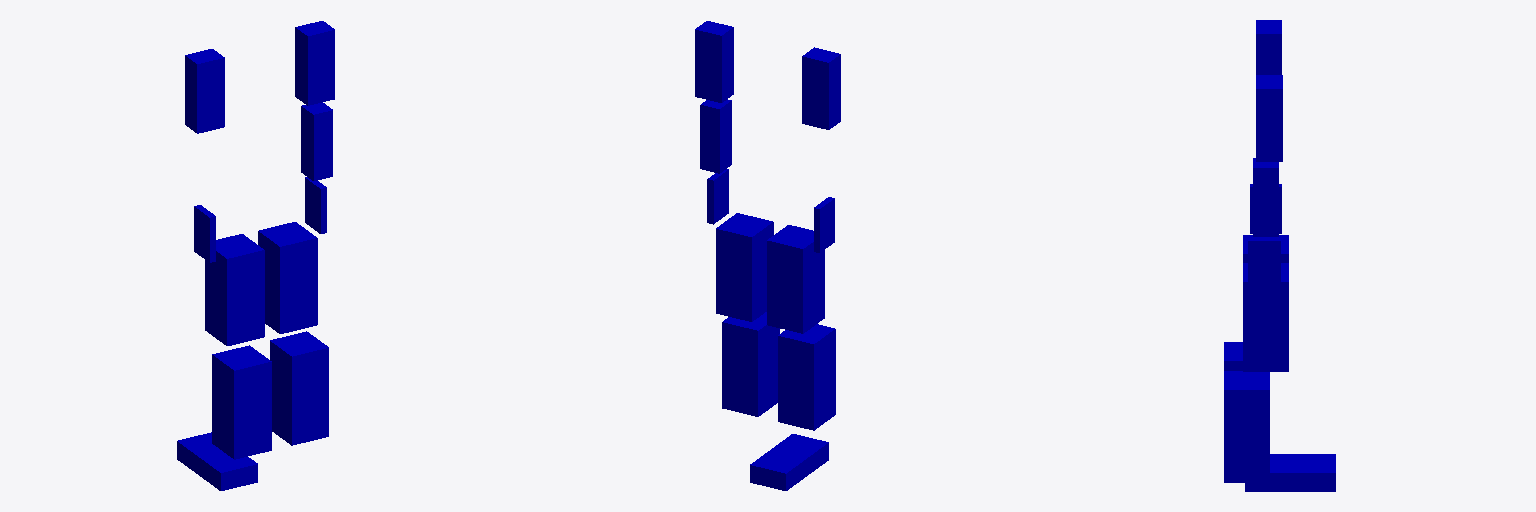
--- Render facts (derived) ---
The picture shows the robot from 3 angles, left to right: view 1: azimuth 30°, elevation 25°; view 2: azimuth 150°, elevation 25°; view 3: azimuth 270°, elevation 25°; orthographic projection.
Robot: rocketbox_male — 64 links, 63 joints (20 revolute, 39 continuous, 3 prismatic, 1 fixed); root link root_link; default pose: every joint at zero.
Links seen in each view (by area): view 1: lower_left_leg_link, lower_right_leg_link, upper_left_leg_x_link, upper_right_leg_x_link, upper_right_arm_x_link, upper_left_arm_x_link, left_foot_x_link, lower_right_arm_link, left_hand_x_link, right_hand_x_link; view 2: lower_left_leg_link, upper_left_leg_x_link, upper_right_leg_x_link, lower_right_leg_link, upper_left_arm_x_link, upper_right_arm_x_link, left_foot_x_link, lower_right_arm_link, right_hand_x_link, left_hand_x_link; view 3: lower_right_leg_link, upper_right_leg_x_link, left_foot_x_link, upper_right_arm_x_link, lower_right_arm_link, right_hand_x_link, upper_left_arm_x_link, lower_left_leg_link.
Link boxes in pixels (x1,y1,x2,y2): lower_left_leg_link: (212,345,271,459); lower_right_leg_link: (270,331,328,445); upper_left_leg_x_link: (205,234,264,345); upper_right_leg_x_link: (258,222,317,333); upper_right_arm_x_link: (295,21,334,105); upper_left_arm_x_link: (185,49,224,133); left_foot_x_link: (177,432,257,490); lower_right_arm_link: (301,102,332,180); left_hand_x_link: (194,205,215,262); right_hand_x_link: (305,177,326,233); lower_left_leg_link: (778,324,835,430); upper_left_leg_x_link: (767,225,824,333); upper_right_leg_x_link: (716,213,773,321); lower_right_leg_link: (722,312,779,416); upper_left_arm_x_link: (802,47,840,129); upper_right_arm_x_link: (695,21,733,102); left_foot_x_link: (750,434,828,490); lower_right_arm_link: (700,99,731,173); right_hand_x_link: (707,169,728,224); left_hand_x_link: (814,197,834,252); lower_right_leg_link: (1224,371,1269,482); upper_right_leg_x_link: (1243,263,1288,371); left_foot_x_link: (1245,454,1335,491); upper_right_arm_x_link: (1256,75,1282,161); lower_right_arm_link: (1253,158,1278,236); right_hand_x_link: (1248,238,1280,287); upper_left_arm_x_link: (1256,20,1281,74); lower_left_leg_link: (1224,342,1242,370).
Bounding box of the posed robot: 0.6331 × 0.4319 × 1.88 m (x, y, z).
Meshes: 14 distinct files referenced, 10 mesh visuals loaded (10 OBJ); not drawn: 4 (reference not matched to a file when rendering).

robot.urdf — rocketbox_male:
<?xml version="1.0"?>
<robot xmlns:sensor="http://playerstage.sourceforge.net/gazebo/xmlschema/#sensor"
       xmlns:controller="http://playerstage.sourceforge.net/gazebo/xmlschema/#controller"
       xmlns:interface="http://playerstage.sourceforge.net/gazebo/xmlschema/#interface"
       xmlns:xacro="http://playerstage.sourceforge.net/gazebo/xmlschema/#interface"
       name="rocketbox_male" >

  <material name="Blue">
    <color rgba="0.0 0.0 0.8 1.0"/>
  </material>
  <material name="Green">
    <color rgba="0.0 0.8 0.0 1.0"/>
  </material>
  <material name="Grey">
    <color rgba="0.7 0.7 0.7 1.0"/>
  </material>
  <material name="Grey2">
    <color rgba="0.9 0.9 0.9 1.0"/>
  </material>
  <material name="Red">
    <color rgba="0.8 0.0 0.0 1.0"/>
  </material>
  <material name="White">
    <color rgba="1.0 1.0 1.0 1.0"/>
  </material>
  <material name="Black">
    <color rgba="0.1 0.1 0.1 1.0"/>
  </material>
  <material name="LightGrey">
    <color rgba="0.6 0.6 0.6 1.0"/>
  </material>

  <link name="root_link"/>
  <link name="base_prismatic_dummy1"/>
  <link name="base_prismatic_dummy2"/>
  <link name="base_prismatic_dummy3"/>
  <link name="base_revolute_dummy1"/>
  <link name="base_revolute_dummy2"/>

  <joint name="base_prismatic_joint_x" type="prismatic">
    <axis xyz="1 0 0"/>
    <limit effort="10000" lower="-60.0" upper="60.0" velocity="0.6"/>
    <safety_controller k_position="100" k_velocity="2000000" soft_lower_limit="-59.9" soft_upper_limit="59.9"/>
    <calibration falling="0.00536"/>
    <dynamics damping="20000.0"/>
    <origin rpy="0 0 0" xyz="0 0 1.218534"/>
    <parent link="root_link"/>
    <child link="base_prismatic_dummy1"/>
  </joint>
  <joint name="base_prismatic_joint_y" type="prismatic">
    <axis xyz="0 1 0"/>
    <limit effort="10000" lower="-60.0" upper="60.0" velocity="0.6"/>
    <safety_controller k_position="100" k_velocity="2000000" soft_lower_limit="-59.9" soft_upper_limit="59.9"/>
    <calibration falling="0.00536"/>
    <dynamics damping="20000.0"/>
    <origin rpy="0 0 0" xyz="0 0 0"/>
    <parent link="base_prismatic_dummy1"/>
    <child link="base_prismatic_dummy2"/>
  </joint>
  <joint name="base_prismatic_joint_z" type="prismatic">
    <axis xyz="0 0 1"/>
    <limit effort="10000" lower="-100.0" upper="100.0" velocity="0.6"/>
    <safety_controller k_position="100" k_velocity="2000000" soft_lower_limit="-99.9" soft_upper_limit="99.9"/>
    <calibration falling="0.00536"/>
    <dynamics damping="20000.0"/>
    <origin rpy="0 0 0" xyz="0 0 0"/>
    <parent link="base_prismatic_dummy2"/>
    <child link="base_prismatic_dummy3"/>
  </joint>
  <joint name="base_revolute_joint_x" type="continuous">
    <axis xyz="1 0 0"/>
    <origin rpy="0 0 0" xyz="0 0 0"/>
    <parent link="base_prismatic_dummy3"/>
    <child link="base_revolute_dummy1"/>
  </joint>
  <joint name="base_revolute_joint_y" type="continuous">
    <axis xyz="0 1 0"/>
    <origin rpy="0 0 0" xyz="0 0 0"/>
    <parent link="base_revolute_dummy1"/>
    <child link="base_revolute_dummy2"/>
  </joint>
  <joint name="base_revolute_joint_z" type="continuous">
    <axis xyz="0 0 1"/>
    <origin rpy="0 0 0" xyz="0 0 0"/>
    <parent link="base_revolute_dummy2"/>
    <child link="pelvis_link"/>
  </joint>  
  <link name="pelvis_link">
    <inertial>
      <mass value="24.9873014159"/>
      <inertia ixx="0.219399825" ixy="0.000000009184695" ixz="0.000000062599005" iyy="0.21939959375" iyz="-0.000000006475555" izz="0.22992248625"/>
      <origin xyz="0 -0.00000001 0.0983925"/>
    </inertial>
  </link>	  
  <joint name="torso_z_joint" type="continuous">
    <axis xyz="0 0 1"/>
    <limit effort="15" lower="-0.7" upper="0.7" velocity="5"/>
    <origin rpy="0 0 0" xyz="0 0.010284 0.327936"/>
    <parent link="pelvis_link"/>
    <child link="torso_z_link"/>
  </joint>
  <joint name="torso_y_joint" type="continuous">
    <axis xyz="0 1 0"/>
    <limit effort="15" lower="-0.3" upper="0.3" velocity="5"/>
    <origin rpy="0 0 0" xyz="0 0 0"/>
    <parent link="torso_z_link"/>
    <child link="torso_y_link"/>
  </joint>
  <joint name="torso_x_joint" type="continuous">
    <axis xyz="1 0 0"/>
    <limit effort="15" lower="-1.0" upper="0" velocity="5"/>
    <origin rpy="0 0 0" xyz="0 0 0"/>
    <parent link="torso_y_link"/>
    <child link="torso_x_link"/>
  </joint>  

  <link name="torso_z_link"/>
  <link name="torso_y_link"/>
  <link name="torso_x_link">
    <visual>
      <origin rpy="0 0 0" xyz="0 0 0"/>
      <geometry>
        <mesh filename="package://human_description/meshes/rocket_box/torso.obj"/>
      </geometry>
      <material name="Blue"/>
    </visual>
    <collision>
      <origin rpy="0 0 0" xyz="0 0 0"/>
      <geometry>
        <mesh filename="package://human_description/meshes/rocket_box/torso.obj"/>
      </geometry>
    </collision>
    <inertial>
      <mass value="54.1902903318"/>
      <inertia ixx="1.0895931125" ixy="0.000001152997515" ixz="-0.000000460619845" iyy="1.4490895525" iyz="0.000000968452985" izz="0.679463005"/>
      <origin xyz="0 -0.00000025 0.22608234"/>
    </inertial>
  </link>  
  
  <joint name="head_z_joint" type="continuous">
    <axis xyz="0 0 1"/>
    <limit effort="15" lower="-1.2" upper="1.2" velocity="5"/>
    <origin rpy="0 0 0" xyz="0 -0.020052 .502320"/>
    <parent link="torso_x_link"/>
    <child link="head_z_link"/>
  </joint>
  <joint name="head_y_joint" type="continuous">
    <axis xyz="0 1 0"/>
    <limit effort="15" lower="-0.8" upper="0.8" velocity="5"/>
    <origin rpy="0 0 0" xyz="0 0 0"/>
    <parent link="head_z_link"/>
    <child link="head_y_link"/>
  </joint>
  <joint name="head_x_joint" type="continuous">
    <axis xyz="1 0 0"/>
    <limit effort="15" lower="-1.57" upper="0.3" velocity="5"/>
    <origin rpy="0 0 0" xyz="0 0 0"/>
    <parent link="head_y_link"/>
    <child link="head_x_link"/>
  </joint>

  <link name="head_z_link"/>
  <link name="head_y_link"/>
  <link name="head_x_link">
    <visual>
      <origin rpy="0 0 0" xyz="0 0 0"/>
      <geometry>
        <mesh filename="package://human_description/meshes/rocket_box/head.obj"/>
      </geometry>
      <material name="Blue"/>
    </visual>
    <collision>
      <origin rpy="0 0 0" xyz="0 0 0"/>
      <geometry>
        <mesh filename="package://human_description/meshes/rocket_box/head.obj"/>
      </geometry>
    </collision>
    <inertial>
      <mass value="16.0164526852"/>
      <inertia ixx="0.194835825625" ixy="-0.00000000913641" ixz="0.00000000531468" iyy="0.194835733125" iyz="-0.000000020301345" izz="0.06426014890625"/>
      <origin xyz="0.0 0.00000001 0.18566523"/>
    </inertial>
  </link>
  
  <joint name="head_endeffector_joint" type="fixed">
    <axis xyz="0 0 1"/>
    <limit effort="15" lower="-0.001" upper="0.001" velocity="5"/>
    <origin rpy="0 0 0" xyz="0 -0.03768 0.246336"/>
    <parent link="head_x_link"/>
    <child link="head_endeffector_link"/>
  </joint>

  <link name="head_endeffector_link"/>

  <joint name="upper_left_leg_z_joint" type="continuous">
    <axis xyz="0 0 1"/>
    <limit effort="15" lower="-1.57" upper="1" velocity="5"/>
    <origin rpy="0 0 0" xyz="-0.106044 -0.001956 -0.144312"/>
    <parent link="pelvis_link"/>
    <child link="upper_left_leg_z_link"/>
  </joint>
  <joint name="upper_left_leg_y_joint" type="continuous">
    <axis xyz="0 1 0"/>
    <limit effort="15" lower="-1.57" upper="0.7" velocity="5"/>
    <origin rpy="0 0 0" xyz="0 0 0"/>
    <parent link="upper_left_leg_z_link"/>
    <child link="upper_left_leg_y_link"/>
  </joint>
  <joint name="upper_left_leg_x_joint" type="continuous">
    <axis xyz="1 0 0"/>
    <limit effort="15" lower="-1.2" upper="1.57" velocity="5"/>
    <origin rpy="0 0 0" xyz="0 0 0"/>
    <parent link="upper_left_leg_y_link"/>
    <child link="upper_left_leg_x_link"/>
  </joint>

  <link name="upper_left_leg_z_link"/>
  <link name="upper_left_leg_y_link"/>
  <link name="upper_left_leg_x_link">
    <visual>
      <origin rpy="0 0 0" xyz="0 0 0"/>
      <geometry>
        <mesh filename="package://human_description/meshes/rocket_box/l_lupperleg.obj"/>
      </geometry>
      <material name="Blue"/>
    </visual>
    <collision>
      <origin rpy="0 0 0" xyz="0 0 0"/>
      <geometry>
        <mesh filename="package://human_description/meshes/rocket_box/l_lupperleg.obj"/>
      </geometry>
    </collision>
    <inertial>
      <mass value="11.28066677275"/>
      <inertia ixx="0.258606759375" ixy="0.000002463301455" ixz="0.00032211891975" iyy="0.258311314375" iyz="-0.000065609605275" izz="0.021073428046875"/>
      <origin xyz="-0.00364974 -0.00003172 -0.19576731"/>
    </inertial>
  </link>

  <joint name="lower_left_leg_joint" type="continuous">
    <axis xyz="1 0 0"/>
    <limit effort="15" lower="-2.4" upper="0" velocity="5"/>
    <origin rpy="0 0 0" xyz="-0.025332 -0.01956 -0.477768"/>
    <parent link="upper_left_leg_x_link"/>
    <child link="lower_left_leg_link"/>
  </joint>

  <link name="lower_left_leg_link">
    <visual>
      <origin rpy="0 0 0" xyz="0 0 0"/>
      <geometry>
        <mesh filename="package://human_description/meshes/rocket_box/l_lowerleg.obj"/>
      </geometry>
      <material name="Blue"/>
    </visual>
    <collision>
      <origin rpy="0 0 0" xyz="0 0 0"/>
      <geometry>
        <mesh filename="package://human_description/meshes/rocket_box/l_lowerleg.obj"/>
      </geometry>
    </collision>
    <inertial>
      <mass value="8.394054321"/>
      <inertia ixx="0.1879741409375" ixy="0.000000001719205" ixz="-0.00000000509231" iyy="0.1879741525" iyz="-0.00000001780773" izz="0.01166299402353"/>
      <origin xyz="0.0 -0.00029422 -0.20195734"/>
    </inertial>
  </link>

  <joint name="left_foot_z_joint" type="continuous">
    <axis xyz="0 0 1"/>
    <limit effort="15" lower="-0.01" upper="0" velocity="5"/>
    <origin rpy="0 0 0" xyz="-0.008988 0.036996 -0.474504"/>
    <parent link="lower_left_leg_link"/>
    <child link="left_foot_z_link"/>
  </joint>
  <joint name="left_foot_y_joint" type="continuous">
    <axis xyz="0 1 0"/>
    <limit effort="15" lower="-0.5" upper="0.5" velocity="5"/>
    <origin rpy="0 0 0" xyz="0 0 0"/>
    <parent link="left_foot_z_link"/>
    <child link="left_foot_y_link"/>
  </joint>
  <joint name="left_foot_x_joint" type="continuous">
    <axis xyz="1 0 0"/>
    <limit effort="15" lower="-0.8" upper="0.6" velocity="5"/>
    <origin rpy="0 0 0" xyz="0 0 0"/>
    <parent link="left_foot_y_link"/>
    <child link="left_foot_x_link"/>
  </joint>

  <link name="left_foot_z_link"/>
  <link name="left_foot_y_link"/>
  <link name="left_foot_x_link">
    <visual>
      <origin rpy="0 0 0" xyz="0 0 0"/>
      <geometry>
        <mesh filename="package://human_description/meshes/rocket_box/l_foot.obj"/>
      </geometry>
      <material name="Blue"/>
    </visual>
    <collision>
      <origin rpy="0 0 0" xyz="0 0 0"/>
      <geometry>
        <mesh filename="package://human_description/meshes/rocket_box/l_foot.obj"/>
      </geometry>
    </collision>
    <inertial>
      <mass value="2.24629475115"/>
      <inertia ixx="0.00997119431636" ixy="-0.00032381616821" ixz="0.00003556416949" iyy="0.00325251065432" iyz="0.00137797584221" izz="0.01040399675772"/>
      <origin xyz="-0.00160579 0.04884521 -0.0783361"/>
    </inertial>
  </link>
	
	  
  <joint name="left_foot_endeffector_joint" type="revolute">
    <axis xyz="0 0 1"/>
    <limit effort="15" lower="0.0" upper="0.0" velocity="5"/>
    <origin rpy="0 0 0" xyz="0 0 -0.120162"/>
    <parent link="left_foot_x_link"/>
    <child link="left_foot_endeffector_link"/>
  </joint>

  <link name="left_foot_endeffector_link"/>  

  <joint name="upper_right_leg_z_joint" type="continuous">
    <axis xyz="0 0 1"/>
    <limit effort="15" lower="-1" upper="1.57" velocity="5"/>
    <origin rpy="0 0 0" xyz="0.106044 -0.001956 -0.144300"/> 
    <parent link="pelvis_link"/>
    <child link="upper_right_leg_z_link"/>
  </joint>
  <joint name="upper_right_leg_y_joint" type="continuous">
    <axis xyz="0 1 0"/>
    <limit effort="15" lower="-0.7" upper="1.57" velocity="5"/>
    <origin rpy="0 0 0" xyz="0 0 0"/>
    <parent link="upper_right_leg_z_link"/>
    <child link="upper_right_leg_y_link"/>
  </joint>
  <joint name="upper_right_leg_x_joint" type="continuous">
    <axis xyz="1 0 0"/>
    <limit effort="15" lower="-1.2" upper="1.57" velocity="5"/>
    <origin rpy="0 0 0" xyz="0 0 0"/>
    <parent link="upper_right_leg_y_link"/>
    <child link="upper_right_leg_x_link"/>
  </joint>

  <link name="upper_right_leg_z_link"/>
  <link name="upper_right_leg_y_link"/>
  <link name="upper_right_leg_x_link">
    <visual>
      <origin rpy="0 0 0" xyz="0 0 0"/>
      <geometry>
        <mesh filename="package://human_description/meshes/rocket_box/r_upperleg.obj"/>
      </geometry>
      <material name="Blue"/>
    </visual>
    <collision>
      <origin rpy="0 0 0" xyz="0 0 0"/>
      <geometry>
        <mesh filename="package://human_description/meshes/rocket_box/r_upperleg.obj"/>
      </geometry>
    </collision>
    <inertial>
      <mass value="11.28066677275"/>
      <inertia ixx="0.258606759375" ixy="-0.000002463410605" ixz="-0.000322118806715" iyy="0.258311360625" iyz="-0.000065609865015" izz="0.021073428046875"/>
      <origin xyz="0.00364974 -0.00003172 -0.19576731"/>
    </inertial>
  </link>

  <joint name="lower_right_leg_joint" type="continuous">
    <axis xyz="1 0 0"/>
    <limit effort="15" lower="-2.4" upper="0" velocity="5"/>
    <origin rpy="0 0 0" xyz="0.025332 -0.01956 -0.47778"/>
    <parent link="upper_right_leg_x_link"/>
    <child link="lower_right_leg_link"/>
  </joint>

  <link name="lower_right_leg_link">
    <visual>
      <origin rpy="0 0 0" xyz="0 0 0"/>
      <geometry>
        <mesh filename="package://human_description/meshes/rocket_box/r_lowerleg.obj"/>
      </geometry>
      <material name="Blue"/>
    </visual>
    <collision>
      <origin rpy="0 0 0" xyz="0 0 0"/>
      <geometry>
        <mesh filename="package://human_description/meshes/rocket_box/r_lowerleg.obj"/>
      </geometry>
    </collision>
    <inertial>
      <mass value="8.394054321"/>
      <inertia ixx="0.1879741409375" ixy="0.000000001719205" ixz="-0.00000000509231" iyy="0.1879741525" iyz="-0.00000001780773" izz="0.01166299402353"/>
      <origin xyz="0.0 -0.00029422 -0.20195734"/>
    </inertial>
  </link>

  <joint name="right_foot_z_joint" type="continuous">
    <axis xyz="0 0 1"/>
    <limit effort="15" lower="0" upper="0.001" velocity="5"/>
    <origin rpy="0 0 0" xyz="0.008988 0.036996 -0.474504"/>
    <parent link="lower_right_leg_link"/>
    <child link="right_foot_z_link"/>
  </joint>
  <joint name="right_foot_y_joint" type="continuous">
    <axis xyz="0 1 0"/>
    <limit effort="15" lower="-0.5" upper="0.5" velocity="5"/>
    <origin rpy="0 0 0" xyz="0 0 0"/>
    <parent link="right_foot_z_link"/>
    <child link="right_foot_y_link"/>
  </joint>
  <joint name="right_foot_x_joint" type="continuous">
    <axis xyz="1 0 0"/>
    <limit effort="15" lower="-0.8" upper="0.6" velocity="5"/>
    <origin rpy="0 0 0" xyz="0 0 0"/>
    <parent link="right_foot_y_link"/>
    <child link="right_foot_x_link"/>
  </joint>

  <link name="right_foot_z_link"/>
  <link name="right_foot_y_link"/>
  <link name="right_foot_x_link">
    <visual>
      <origin rpy="0 0 0" xyz="0 0 0"/>
      <geometry>
        <mesh filename="package://human_description/meshes/rocket_box/r_foot.obj"/>
      </geometry>
      <material name="Blue"/>
    </visual>
    <collision>
      <origin rpy="0 0 0" xyz="0 0 0"/>
      <geometry>
        <mesh filename="package://human_description/meshes/rocket_box/r_foot.obj"/>
      </geometry>
    </collision>
    <inertial>
      <mass value="2.24629475115"/>
      <inertia ixx="0.00997119287114" ixy="0.00032381614564" ixz="-0.0000355639042" iyy="0.003252511015625" iyz="0.00137797638426" izz="0.01040399675772"/>
      <origin xyz="0.00160579 0.04884521 -0.0783361"/>
    </inertial>
  </link>
  	  
  <joint name="right_foot_endeffector_joint" type="revolute">
    <axis xyz="0 0 1"/>
    <limit effort="15" lower="0.0" upper="0.0" velocity="5"/>
    <origin rpy="0 0 0" xyz="0 0 -0.120162"/>
    <parent link="right_foot_x_link"/>
    <child link="right_foot_endeffector_link"/>
  </joint>

  <link name="right_foot_endeffector_link"/>

  <joint name="upper_left_specula_joint" type="continuous">
    <axis xyz="0 0 1"/>
    <limit effort="15" lower="-0" upper="0" velocity="5"/>
    <origin rpy="0 0 0" xyz="-0.0873828 0.0381 -0.153156"/>
    <parent link="head_x_link"/>
    <child link="upper_left_arm_specula_link"/>
  </joint>
  
  <link name="upper_left_arm_specula_link"/>
  
  <joint name="upper_left_arm_z_joint" type="continuous">
    <axis xyz="0 0 1"/>
    <limit effort="15" lower="-0.5" upper="0.5" velocity="5"/>
    <origin rpy="0 0 0" xyz="-0.169296 0 0"/>
    <parent link="upper_left_arm_specula_link"/>
    <child link="upper_left_arm_z_link"/>
  </joint>
  <joint name="upper_left_arm_y_joint" type="continuous">
    <axis xyz="0 1 0"/>
    <limit effort="15" lower="-3.14" upper="2.0" velocity="5"/>
    <origin rpy="0 0 0" xyz="0 0 0"/>
    <parent link="upper_left_arm_z_link"/>
    <child link="upper_left_arm_y_link"/>
  </joint>
  <joint name="upper_left_arm_x_joint" type="continuous">
    <axis xyz="1 0 0"/>
    <limit effort="15" lower="-1.0" upper="3.14" velocity="5"/>
    <origin rpy="0 0 0" xyz="0 0 0"/>
    <parent link="upper_left_arm_y_link"/>
    <child link="upper_left_arm_x_link"/>
  </joint>

  <link name="upper_left_arm_z_link"/>
  <link name="upper_left_arm_y_link"/>
  <link name="upper_left_arm_x_link">
    <visual>
      <origin rpy="0 0 0" xyz="0 0 0"/>
      <geometry>
        <mesh filename="package://human_description/meshes/rocket_box/l_upperarm.obj"/>
      </geometry>
      <material name="Blue"/>
    </visual>
    <collision>
      <origin rpy="0 0 0" xyz="0 0 0"/>
      <geometry>
        <mesh filename="package://human_description/meshes/rocket_box/l_upperarm.obj"/>
      </geometry>
    </collision>
    <inertial>
      <mass value="5.0428574576"/>
      <inertia ixx="0.05868383265625" ixy="-0.0000000925777" ixz="-0.00160419461921" iyy="0.05870381265625" iyz="-0.000002301658445" izz="0.006071859706985"/>
      <origin xyz="-0.00338773 -0.00000063 -0.17172602"/>
    </inertial>
  </link>

  <joint name="lower_left_arm_joint" type="continuous">
    <axis xyz="1 0 0"/>
    <limit effort="15" lower="0" upper="3.14" velocity="5"/>
    <origin rpy="0 0 0" xyz="-0.001464 -0.00114 -0.34296"/>
    <parent link="upper_left_arm_x_link"/>
    <child link="lower_left_arm_link"/>
  </joint>

  <link name="lower_left_arm_link">
    <visual>
      <origin rpy="0 0 0" xyz="0 0 0"/>
      <geometry>
        <mesh filename="package://human_description/meshes/rocket_box/l_forearm.obj"/>
      </geometry>
      <material name="Blue"/>
    </visual>
    <collision>
      <origin rpy="0 0 0" xyz="0 0 0"/>
      <geometry>
        <mesh filename="package://human_description/meshes/rocket_box/l_forearm.obj"/>
      </geometry>
    </collision>
    <inertial>
      <mass value="4.1174112191"/>
      <inertia ixx="0.046870596953125" ixy="-0.000000000013135" ixz="0.00000000291116" iyy="0.0468705940625" iyz="-0.00000000721685" izz="0.00412573450193"/>
      <origin xyz="0.0 0.00000002 -0.14231966"/>
    </inertial>
  </link>

  <joint name="left_hand_z_joint" type="continuous">
    <axis xyz="0 0 1"/>
    <limit effort="15" lower="-1.0" upper="1.0" velocity="5"/>
    <origin rpy="0 0 0" xyz="-0.001728 -0.004992 -0.325056"/>
    <parent link="lower_left_arm_link"/>
    <child link="left_hand_z_link"/>
  </joint>
  <joint name="left_hand_y_joint" type="continuous">
    <axis xyz="0 1 0"/>
    <limit effort="15" lower="-1.3" upper="1.5" velocity="5"/>
    <origin rpy="0 0 0" xyz="0 0 0"/>
    <parent link="left_hand_z_link"/>
    <child link="left_hand_y_link"/>
  </joint>
  <joint name="left_hand_x_joint" type="continuous">
    <axis xyz="1 0 0"/>
    <limit effort="15" lower="-0.5" upper="1.4" velocity="5"/>
    <origin rpy="0 0 0" xyz="0 0 0"/>
    <parent link="left_hand_y_link"/>
    <child link="left_hand_x_link"/>
  </joint>

  <link name="left_hand_z_link"/>
  <link name="left_hand_y_link"/>
  <link name="left_hand_x_link">
    <visual>
      <origin rpy="0 0 0" xyz="0 0 0"/>
      <geometry>
        <mesh filename="package://human_description/meshes/rocket_box/l_hand.obj"/>
      </geometry>
      <material name="Blue"/>
    </visual>
    <collision>
      <origin rpy="0 0 0" xyz="0 0 0"/>
      <geometry>
        <mesh filename="package://human_description/meshes/rocket_box/l_hand.obj"/>
      </geometry>
    </collision>
    <inertial>
      <mass value="0.5669499677"/>
      <inertia ixx="0.00201160057137" ixy="-0.000016142435665" ixz="-0.00000510135428" iyy="0.00161538206057" iyz="0.00004737239241" izz="0.00044905660648"/>
      <origin xyz="-0.00417106 0.0042704 -0.05959476"/>
    </inertial>
  </link>

  <joint name="left_hand_endeffector_joint" type="revolute">
    <axis xyz="0 0 1"/>
    <limit effort="15" lower="-0.001" upper="0.001" velocity="5"/>
    <origin rpy="-1.570796 0 1.570796" xyz="0.01757 -0.00204 -0.08"/>
    <parent link="left_hand_x_link"/>
    <child link="left_hand_endeffector_link"/>
  </joint>

  <link name="left_hand_endeffector_link"/>
  
  <joint name="upper_right_specula_joint" type="continuous">
    <axis xyz="1 0 0"/>
    <limit effort="15" lower="-0" upper="0" velocity="5"/>
    <origin rpy="0 0 0" xyz="0.0873852 0.0381 -0.153312"/>
    <parent link="head_x_link"/>
    <child link="upper_right_arm_specula_link"/>
  </joint>
    
  <link name="upper_right_arm_specula_link"/>
  
  <joint name="upper_right_arm_z_joint" type="continuous">
    <axis xyz="0 0 1"/>
    <limit effort="15" lower="-0.5" upper="0.5" velocity="5"/>
    <origin rpy="0 0 0" xyz="0.16926 0.003768 -0.0003"/>
    <parent link="upper_right_arm_specula_link"/>
    <child link="upper_right_arm_z_link"/>
  </joint>
  <joint name="upper_right_arm_y_joint" type="continuous">
    <axis xyz="0 1 0"/>
    <limit effort="15" lower="-2.0" upper="3.14" velocity="5"/>
    <origin rpy="0 0 0" xyz="0 0 0"/>
    <parent link="upper_right_arm_z_link"/>
    <child link="upper_right_arm_y_link"/>
  </joint>
  <joint name="upper_right_arm_x_joint" type="continuous">
    <axis xyz="1 0 0"/>
    <limit effort="15" lower="-1.0" upper="3.14" velocity="5"/>
    <origin rpy="0 0 0" xyz="0 0 0"/>
    <parent link="upper_right_arm_y_link"/>
    <child link="upper_right_arm_x_link"/>
  </joint>

  <link name="upper_right_arm_z_link"/>
  <link name="upper_right_arm_y_link"/>
  <link name="upper_right_arm_x_link">
    <visual>
      <origin rpy="0 0 0" xyz="0 0 0"/>
      <geometry>
        <mesh filename="package://human_description/meshes/rocket_box/r_upperarm.obj"/>
      </geometry>
      <material name="Blue"/>
    </visual>
    <collision>
      <origin rpy="0 0 0" xyz="0 0 0"/>
      <geometry>
        <mesh filename="package://human_description/meshes/rocket_box/r_upperarm.obj"/>
      </geometry>
    </collision>
    <inertial>
      <mass value="5.0428574576"/>
      <inertia ixx="0.05868383265625" ixy="0.00000009260175" ixz="0.00160419479977" iyy="0.05870381265625" iyz="-0.000002301500825" izz="0.006071859706985"/>
      <origin xyz="0.00338773 -0.00000063 -0.17172602"/>
    </inertial>
  </link>

  <joint name="lower_right_arm_joint" type="continuous">
    <axis xyz="1 0 0"/>
    <limit effort="15" lower="0" upper="3.14" velocity="5"/>
    <origin rpy="0 0 0" xyz="-0.005592 -0.007404 -0.342828"/>
    <parent link="upper_right_arm_x_link"/>
    <child link="lower_right_arm_link"/>
  </joint>

  <link name="lower_right_arm_link">
    <visual>
      <origin rpy="0 0 0" xyz="0 0 0"/>
      <geometry>
        <mesh filename="package://human_description/meshes/rocket_box/r_forearm.obj"/>
      </geometry>
      <material name="Blue"/>
    </visual>
    <collision>
      <origin rpy="0 0 0" xyz="0 0 0"/>
      <geometry>
        <mesh filename="package://human_description/meshes/rocket_box/r_forearm.obj"/>
      </geometry>
    </collision>
    <inertial>
      <mass value="4.1174112191"/>
      <inertia ixx="0.046870596953125" ixy="-0.000000000013135" ixz="0.00000000291116" iyy="0.0468705940625" iyz="-0.00000000721685" izz="0.00412573450193"/>
      <origin xyz="0.0 0.00000002 -0.14231966"/>
    </inertial>
  </link>

  <joint name="right_hand_z_joint" type="continuous">
    <axis xyz="0 0 1"/>
    <limit effort="15" lower="-1.0" upper="1.0" velocity="5"/>
    <origin rpy="0 0 0" xyz="-0.004728 -0.003084 -0.325056"/>
    <parent link="lower_right_arm_link"/>
    <child link="right_hand_z_link"/>
  </joint>
  <joint name="right_hand_y_joint" type="continuous">
    <axis xyz="0 1 0"/>
    <limit effort="15" lower="-1.5" upper="1.3" velocity="5"/>
    <origin rpy="0 0 0" xyz="0 0 0"/>
    <parent link="right_hand_z_link"/>
    <child link="right_hand_y_link"/>
  </joint>
  <joint name="right_hand_x_joint" type="continuous">
    <axis xyz="1 0 0"/>
    <limit effort="15" lower="-0.5" upper="1.4" velocity="5"/>
    <origin rpy="0 0 0" xyz="0 0 0"/>
    <parent link="right_hand_y_link"/>
    <child link="right_hand_x_link"/>
  </joint>

  <link name="right_hand_z_link"/>
  <link name="right_hand_y_link"/>
  <link name="right_hand_x_link">
    <visual>
      <origin rpy="0 0 0" xyz="0 0 0"/>
      <geometry>
        <mesh filename="package://human_description/meshes/rocket_box/r_hand.obj"/>
      </geometry>
      <material name="Blue"/>
    </visual>
    <collision>
      <origin rpy="0 0 0" xyz="0 0 0"/>
      <geometry>
        <mesh filename="package://human_description/meshes/rocket_box/r_hand.obj"/>
      </geometry>
    </collision>
    <inertial>
      <mass value="0.5669499677"/>
      <inertia ixx="0.00201160057137" ixy="0.000016142435665" ixz="0.00000510133208" iyy="0.00161538206057" iyz="0.00004737239241" izz="0.00044905660648"/>
      <origin xyz="0.00417106 0.0042704 -0.05959476"/>
    </inertial>
  </link>

  <joint name="right_hand_endeffector_joint" type="revolute">
    <axis xyz="0 0 1"/>
    <limit effort="15" lower="-0.001" upper="0.001" velocity="5"/>
    <origin rpy="-1.570796 0 -1.570796" xyz="-0.01229 -0.007225 -0.07007"/>
    <parent link="right_hand_x_link"/>
    <child link="right_hand_endeffector_link"/>
  </joint>

  <link name="right_hand_endeffector_link"/>
  
  <link name="left_foot_cp_1_link"/>
  <link name="left_foot_cp_2_link"/>
  <link name="left_foot_cp_3_link"/>
  <link name="left_foot_cp_4_link"/>

  <joint name="left_foot_cp_1_joint" type="revolute">
    <axis xyz="0 0 1"/>
    <limit effort="15" lower="0" upper="0" velocity="5"/>
    <origin rpy="0 0 0" xyz="0.08027 0.27372 0.0"/>
    <parent link="left_foot_endeffector_link"/>
    <child link="left_foot_cp_1_link"/>
  </joint>
  <joint name="left_foot_cp_2_joint" type="revolute">
    <axis xyz="0 0 1"/>
    <limit effort="15" lower="0" upper="0" velocity="5"/>
    <origin rpy="0 0 0" xyz="-0.09166 0.27372 0.0"/>
    <parent link="left_foot_endeffector_link"/>
    <child link="left_foot_cp_2_link"/>
  </joint>
  <joint name="left_foot_cp_3_joint" type="revolute">
    <axis xyz="0 0 1"/>
    <limit effort="15" lower="0" upper="0" velocity="5"/>
    <origin rpy="0 0 0" xyz="-0.09166 -0.07769 0.0"/>
    <parent link="left_foot_endeffector_link"/>
    <child link="left_foot_cp_3_link"/>
  </joint>
  <joint name="left_foot_cp_4_joint" type="revolute">
    <axis xyz="0 0 1"/>
    <limit effort="15" lower="0" upper="0" velocity="5"/>
    <origin rpy="0 0 0" xyz="0.08027 -0.07769 0.0"/>
    <parent link="left_foot_endeffector_link"/>
    <child link="left_foot_cp_4_link"/>
  </joint>

  <link name="right_foot_cp_1_link"/>
  <link name="right_foot_cp_2_link"/>
  <link name="right_foot_cp_3_link"/>
  <link name="right_foot_cp_4_link"/>

  <joint name="right_foot_cp_1_joint" type="revolute">
    <axis xyz="0 0 1"/>
    <limit effort="15" lower="0" upper="0" velocity="5"/>
    <origin rpy="0 0 0" xyz="0.10495 0.2684 0.0"/>
    <parent link="right_foot_endeffector_link"/>
    <child link="right_foot_cp_1_link"/>
  </joint>
  <joint name="right_foot_cp_2_joint" type="revolute">
    <axis xyz="0 0 1"/>
    <limit effort="15" lower="0" upper="0" velocity="5"/>
    <origin rpy="0 0 0" xyz="-0.06698 0.2684 0.0"/>
    <parent link="right_foot_endeffector_link"/>
    <child link="right_foot_cp_2_link"/>
  </joint>
  <joint name="right_foot_cp_3_joint" type="revolute">
    <axis xyz="0 0 1"/>
    <limit effort="15" lower="0" upper="0" velocity="5"/>
    <origin rpy="0 0 0" xyz="-0.06698 -0.08301 0.0"/>
    <parent link="right_foot_endeffector_link"/>
    <child link="right_foot_cp_3_link"/>
  </joint>
  <joint name="right_foot_cp_4_joint" type="revolute">
    <axis xyz="0 0 1"/>
    <limit effort="15" lower="0" upper="0" velocity="5"/>
    <origin rpy="0 0 0" xyz="0.10495 -0.08301 0.0"/>
    <parent link="right_foot_endeffector_link"/>
    <child link="right_foot_cp_4_link"/>
  </joint>

  <link name="left_hand_cp_1_link"/>
  <link name="left_hand_cp_2_link"/>
  <link name="left_hand_cp_3_link"/>
  <link name="left_hand_cp_4_link"/>

  <joint name="left_hand_cp_1_joint" type="revolute">
    <axis xyz="0 0 1"/>
    <limit effort="15" lower="0" upper="0" velocity="5"/>
    <origin rpy="0 0 0" xyz="0.06264 0.14569 0"/>
    <parent link="left_hand_endeffector_link"/>
    <child link="left_hand_cp_1_link"/>
  </joint>
  <joint name="left_hand_cp_2_joint" type="revolute">
    <axis xyz="0 0 1"/>
    <limit effort="15" lower="0" upper="0" velocity="5"/>
    <origin rpy="0 0 0" xyz="-0.06264 0.14569 0"/>
    <parent link="left_hand_endeffector_link"/>
    <child link="left_hand_cp_2_link"/>
  </joint>
  <joint name="left_hand_cp_3_joint" type="revolute">
    <axis xyz="0 0 1"/>
    <limit effort="15" lower="0" upper="0" velocity="5"/>
    <origin rpy="0 0 0" xyz="-0.06264 -0.05295 0"/>
    <parent link="left_hand_endeffector_link"/>
    <child link="left_hand_cp_3_link"/>
  </joint>
  <joint name="left_hand_cp_4_joint" type="revolute">
    <axis xyz="0 0 1"/>
    <limit effort="15" lower="0" upper="0" velocity="5"/>
    <origin rpy="0 0 0" xyz="0.06264 -0.05295 0"/>
    <parent link="left_hand_endeffector_link"/>
    <child link="left_hand_cp_4_link"/>
  </joint>

  <link name="right_hand_cp_1_link"/>
  <link name="right_hand_cp_2_link"/>
  <link name="right_hand_cp_3_link"/>
  <link name="right_hand_cp_4_link"/>

  <joint name="right_hand_cp_1_joint" type="revolute">
    <axis xyz="0 0 1"/>
    <limit effort="15" lower="0" upper="0" velocity="5"/>
    <origin rpy="0 0 0" xyz="-0.06264 -0.05295 0"/>
    <parent link="right_hand_endeffector_link"/>
    <child link="right_hand_cp_1_link"/>
  </joint>
  <joint name="right_hand_cp_2_joint" type="revolute">
    <axis xyz="0 0 1"/>
    <limit effort="15" lower="0" upper="0" velocity="5"/>
    <origin rpy="0 0 0" xyz="0.06264 -0.05295 0"/>
    <parent link="right_hand_endeffector_link"/>
    <child link="right_hand_cp_2_link"/>
  </joint>
  <joint name="right_hand_cp_3_joint" type="revolute">
    <axis xyz="0 0 1"/>
    <limit effort="15" lower="0" upper="0" velocity="5"/>
    <origin rpy="0 0 0" xyz="0.06264 0.1457 0"/>
    <parent link="right_hand_endeffector_link"/>
    <child link="right_hand_cp_3_link"/>
  </joint>
  <joint name="right_hand_cp_4_joint" type="revolute">
    <axis xyz="0 0 1"/>
    <limit effort="15" lower="0" upper="0" velocity="5"/>
    <origin rpy="0 0 0" xyz="-0.06264 0.1457 0"/>
    <parent link="right_hand_endeffector_link"/>
    <child link="right_hand_cp_4_link"/>
  </joint>

</robot>
